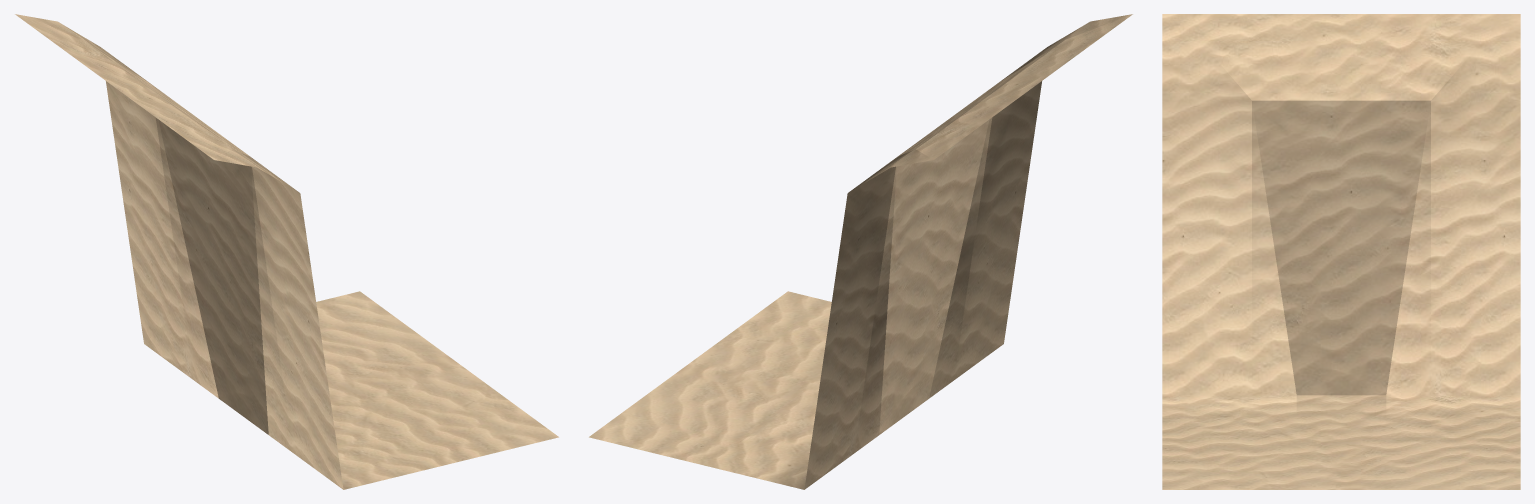
File: Sand3c.obj
3 renders of one model, left to right at view 1: azimuth 30°, elevation 25°; view 2: azimuth 150°, elevation 25°; view 3: azimuth 270°, elevation 25°, orthographic. The views are drawn at different scales.
Visible parts, largest first — view 1: Grid_Grid.001; view 2: Grid_Grid.001; view 3: Grid_Grid.001.
Boxes of the visible parts, left/top/right/bottom form: Grid_Grid.001: left=15, top=14, right=558, bottom=489; Grid_Grid.001: left=589, top=14, right=1132, bottom=489; Grid_Grid.001: left=1162, top=14, right=1520, bottom=489.
Size of the model in its own units: 1 by 1 by 1.
1 material, 1 textured.
